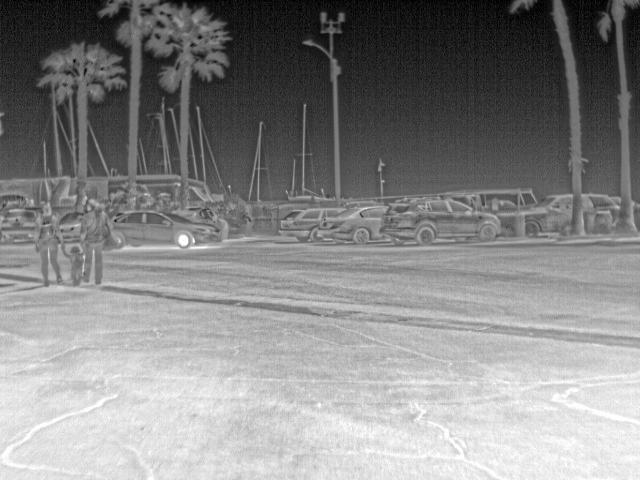car: (382, 199, 504, 243), (112, 209, 222, 246), (325, 206, 389, 243), (279, 207, 346, 238), (1, 206, 45, 242), (584, 192, 618, 237), (524, 196, 573, 216), (60, 216, 82, 238)
person: (80, 200, 110, 284), (38, 207, 66, 284), (68, 243, 84, 284)
